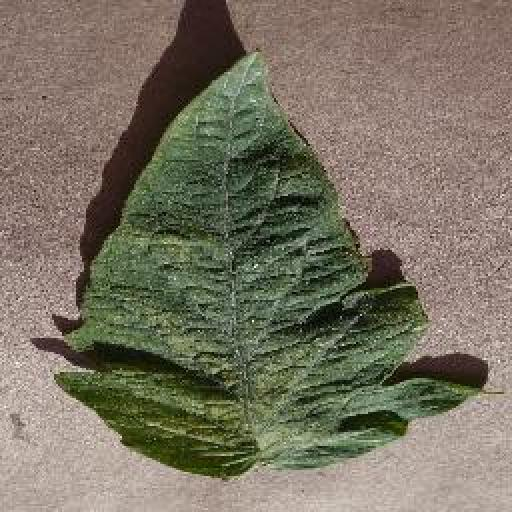disease_tomato: (53, 47, 475, 476)
